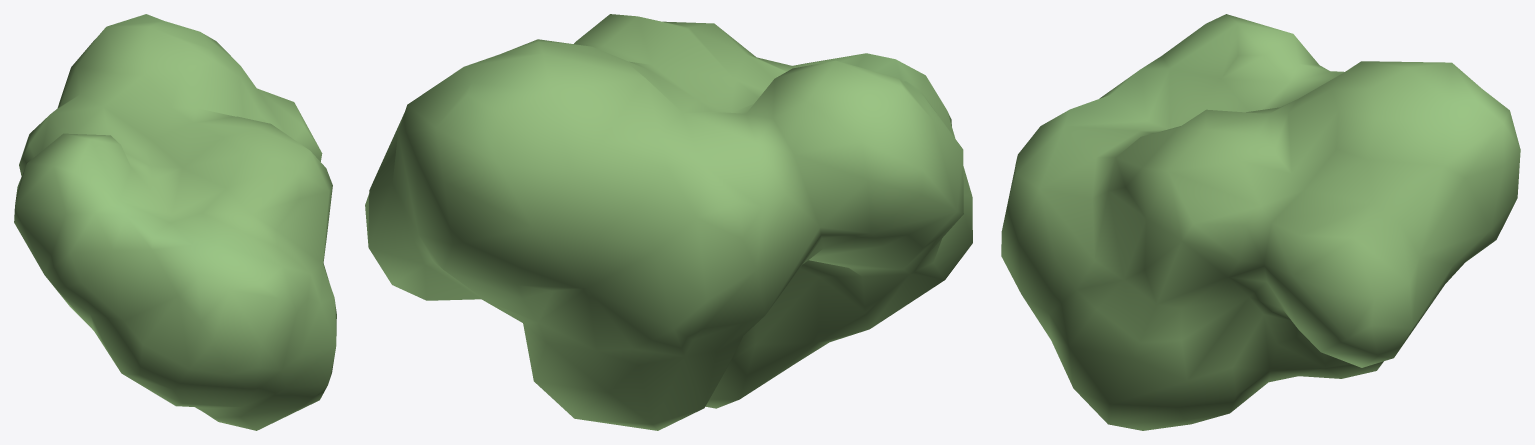
Rendered from bush_round.glb.
3 views of the same model, side by side, from view 1: azimuth 30°, elevation 25°; view 2: azimuth 150°, elevation 25°; view 3: azimuth 270°, elevation 25° (orthographic). The views are drawn at different scales.
Parts seen in each view (by area): view 1: crown; view 2: crown; view 3: crown.
Boxes of the visible parts, x1,y1,x2,y2 form: crown: [14, 14, 336, 430]; crown: [365, 14, 972, 430]; crown: [1001, 14, 1520, 430].
Bounding box in the file's own units: 1.51 × 1.31 × 1.71.
